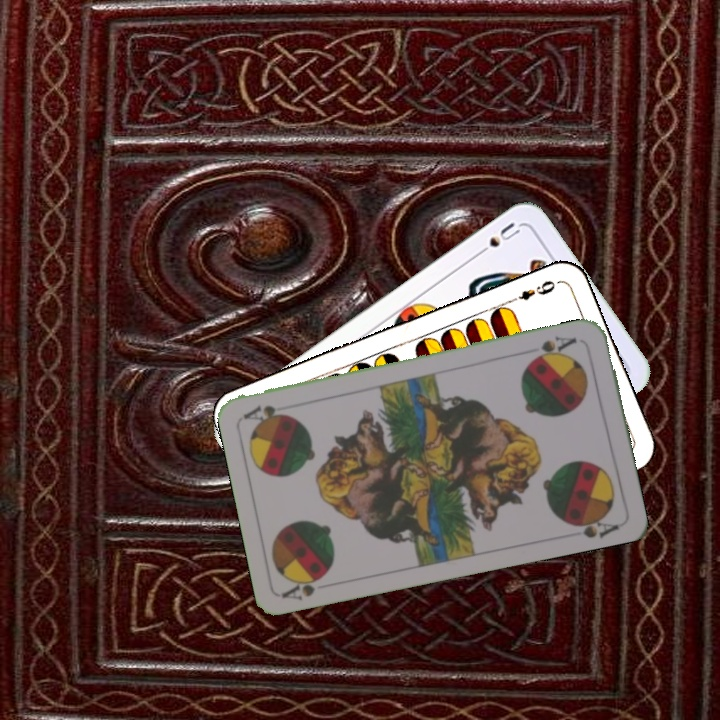E9: (505, 276, 562, 306)
SA: (279, 569, 330, 602), (527, 332, 579, 364)
SU: (470, 218, 523, 260)
